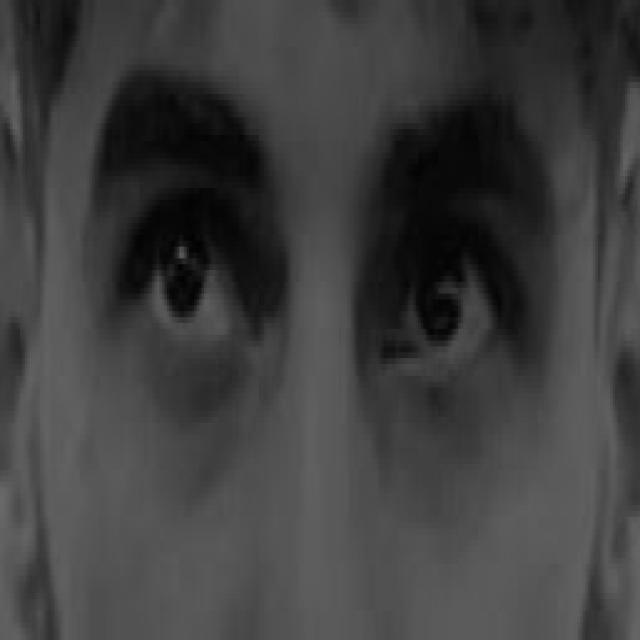real: (96, 99, 558, 433)
